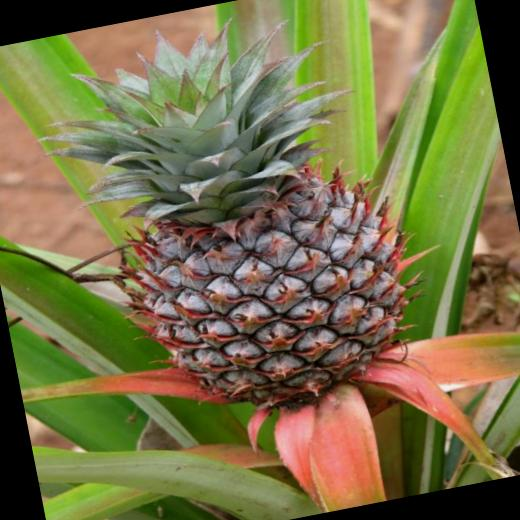Mango: (16, 0, 471, 450)
